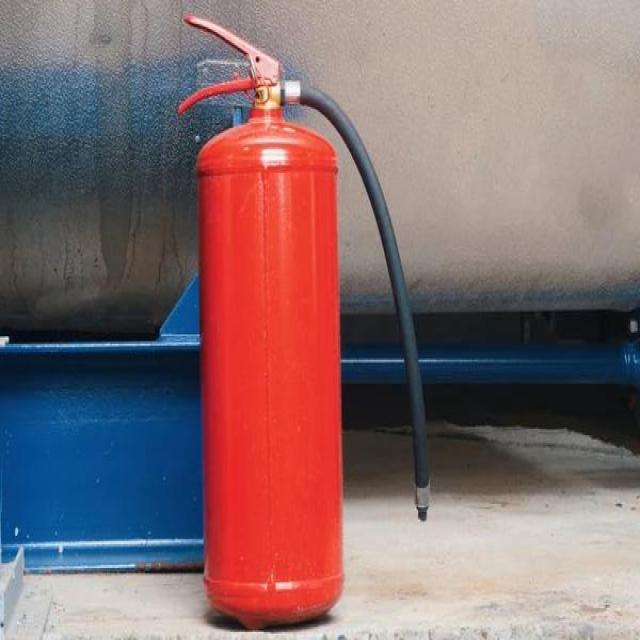fire_extinguisher: (172, 13, 433, 627)
